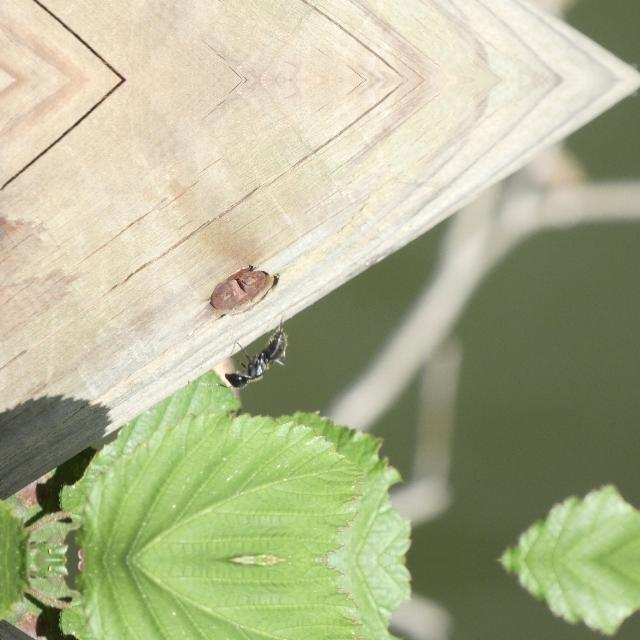Camponotus: (220, 320, 304, 400)
